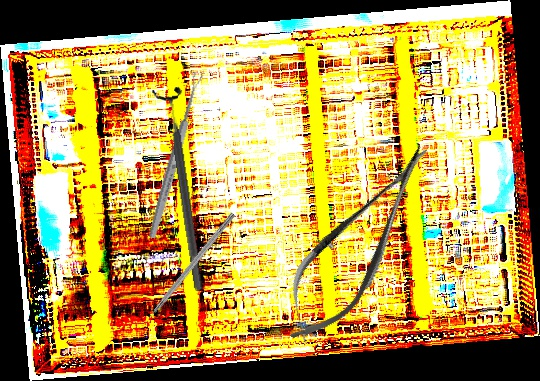Fixation Ring: (151, 85, 214, 294)
Hook Surgical: (135, 211, 237, 333)
Micro Scissor: (262, 129, 456, 358)
Surgical Spoon: (146, 71, 205, 240)
